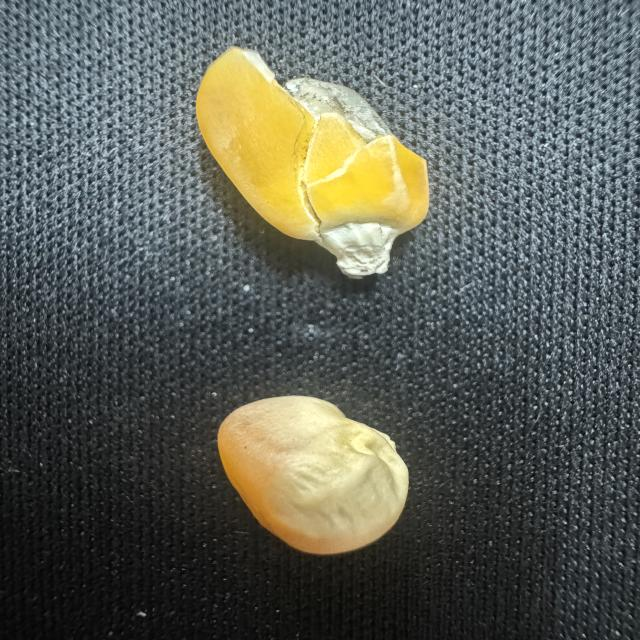Bad-Seed: (193, 42, 434, 278), (210, 389, 419, 562)
